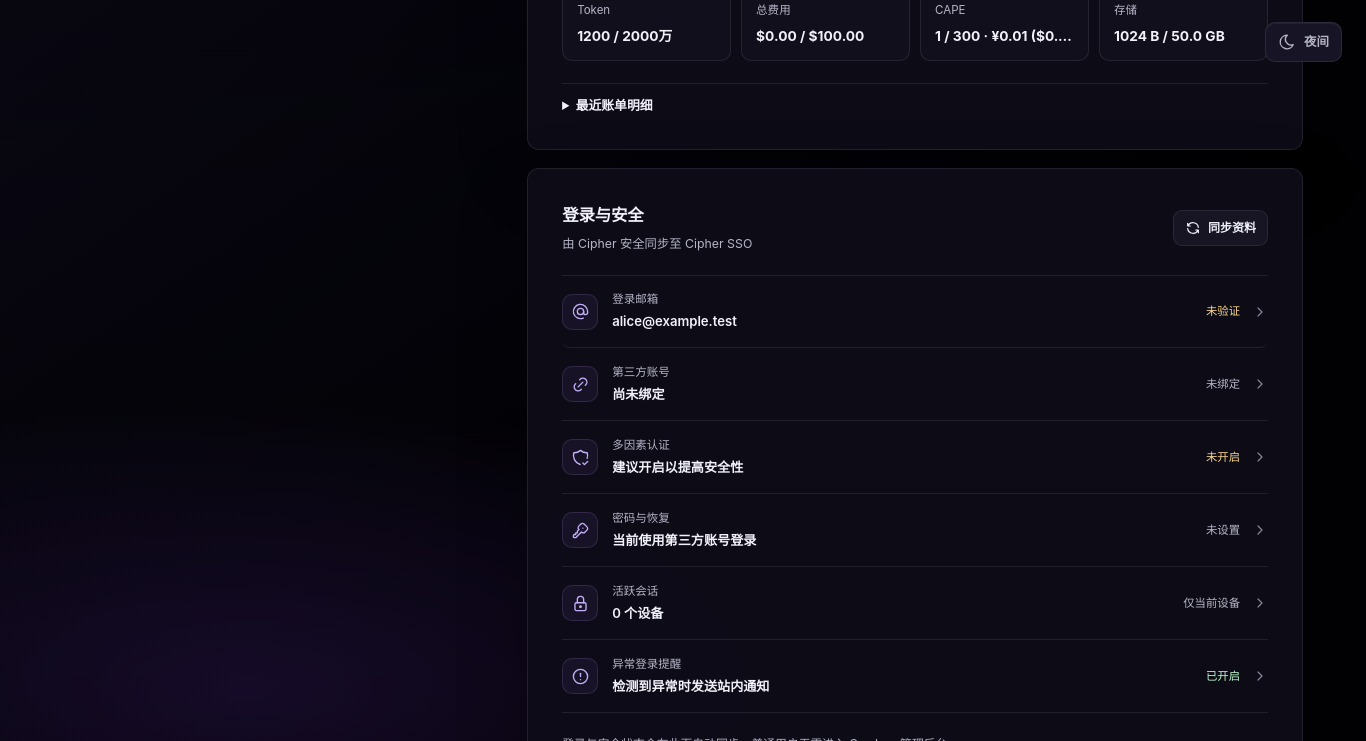
Test: AccountPage › expands security details inside the account page
(page scrolled)
Click the button "第三方账号 尚未绑定 未绑定".
click(580, 384)  # box [562,348,1268,420]
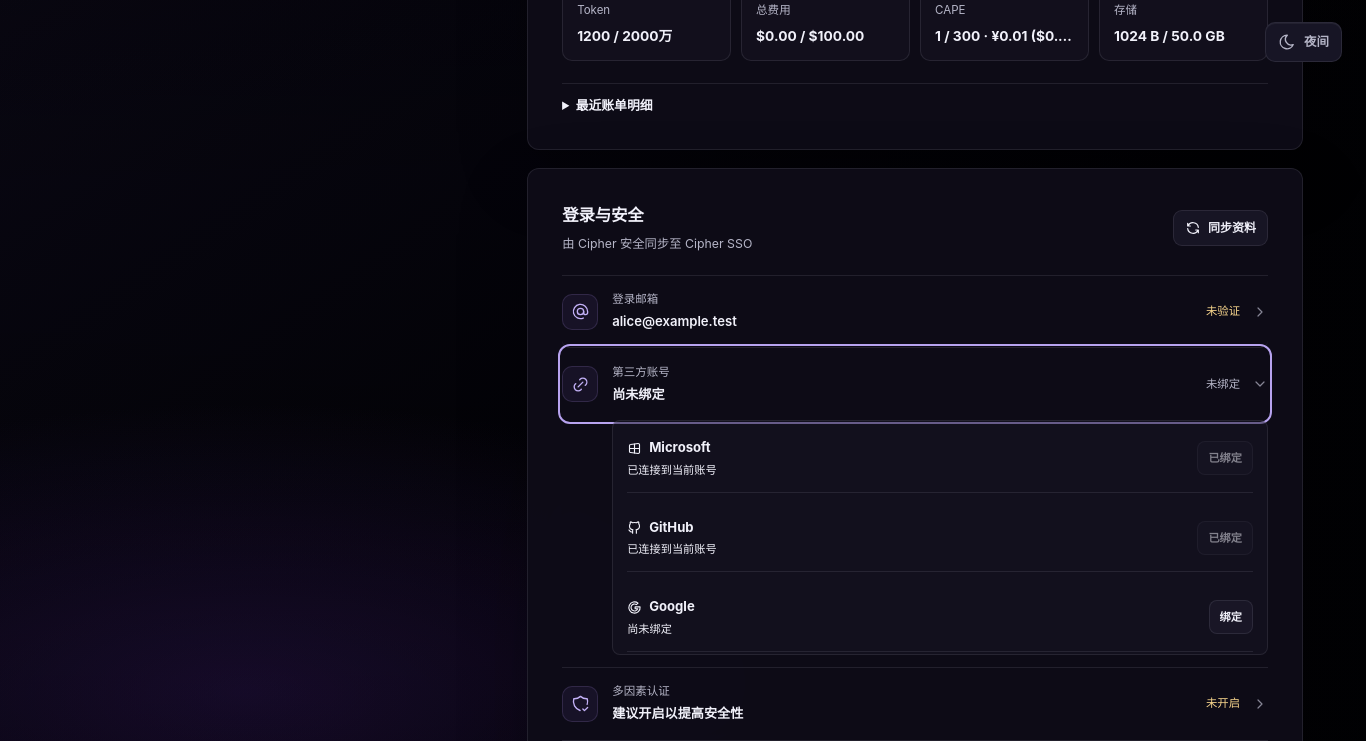
Check: the button "第三方账号 尚未绑定 未绑定" is expanded, box [562,348,1268,420]
Check: the element named "第三方账号管理" is shown, box [612,420,1268,655]
Check: the text "Microsoft" is shown, box [627,439,710,456]
